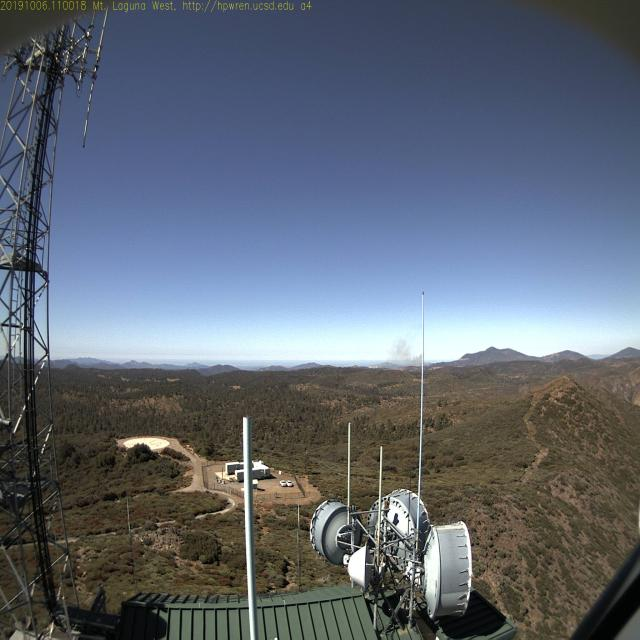smoke: (386, 331, 426, 370)
